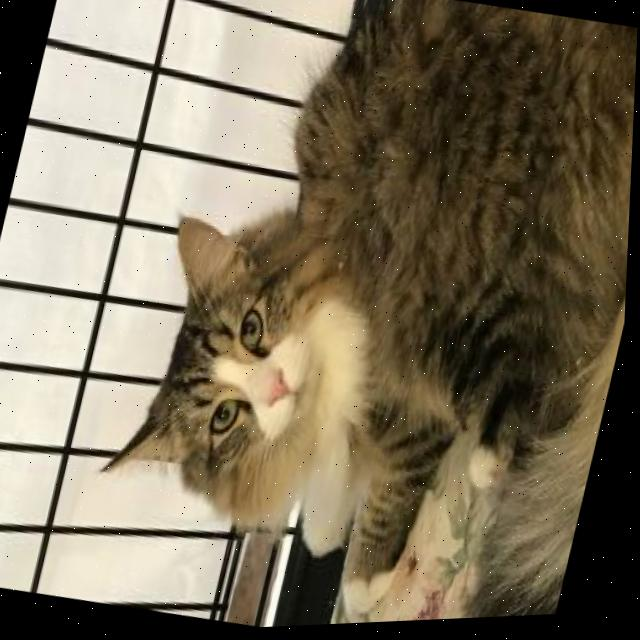Maine Coon: (69, 0, 640, 637)
